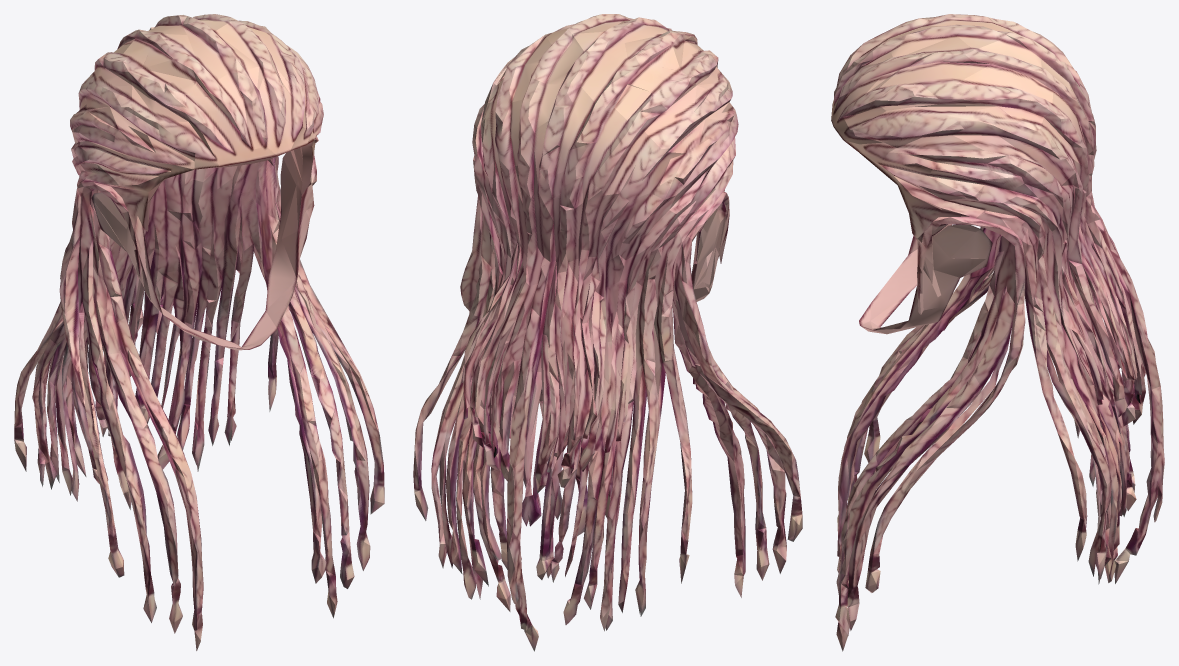
Rendered from fennal_f-tresses-fines.glb.
3 renders of one model, left to right at view 1: azimuth 30°, elevation 25°; view 2: azimuth 150°, elevation 25°; view 3: azimuth 270°, elevation 25°, orthographic. The views are drawn at different scales.
Parts seen in each view (by area): view 1: geometry_0; view 2: geometry_0; view 3: geometry_0.
Boxes of the visible parts, left/top/right/bottom form: geometry_0: left=14, top=14, right=384, bottom=650; geometry_0: left=413, top=14, right=802, bottom=651; geometry_0: left=831, top=14, right=1164, bottom=651.
Size of the model in its own units: 0.9664 by 1.9 by 0.9761.
1 material, 1 textured.
